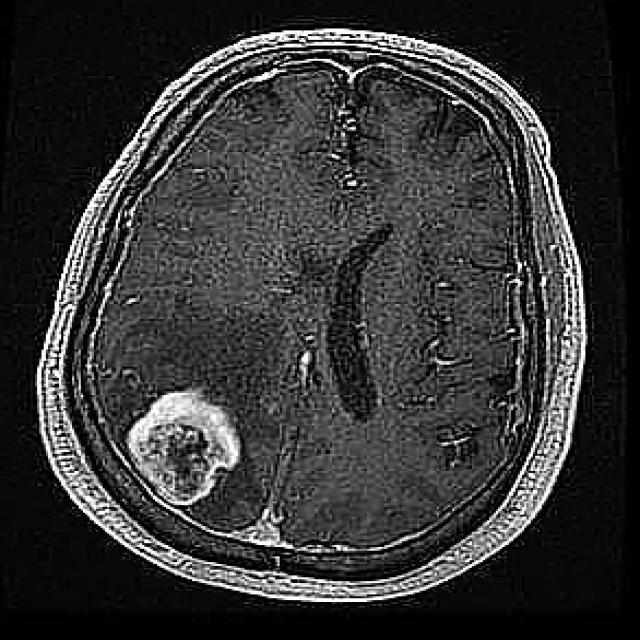Tumor-Cell: (108, 352, 246, 511)
